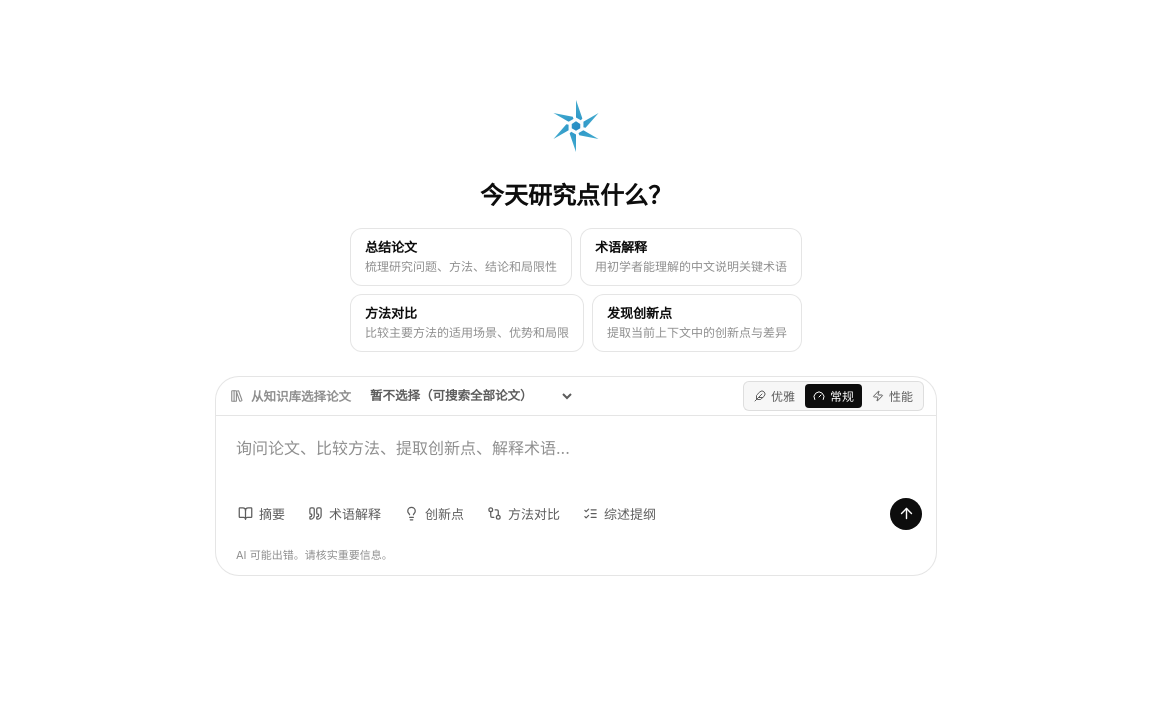
Test: ChatPage › creates a conversation and renders the assistant answer with citations
The image size is (1152, 720).
Type "总结 RAG 的核心思路" into the text box with placeholder "询问论文、比较方法、提取创新点、解释术语..." at (576, 457), box [216, 416, 936, 498]
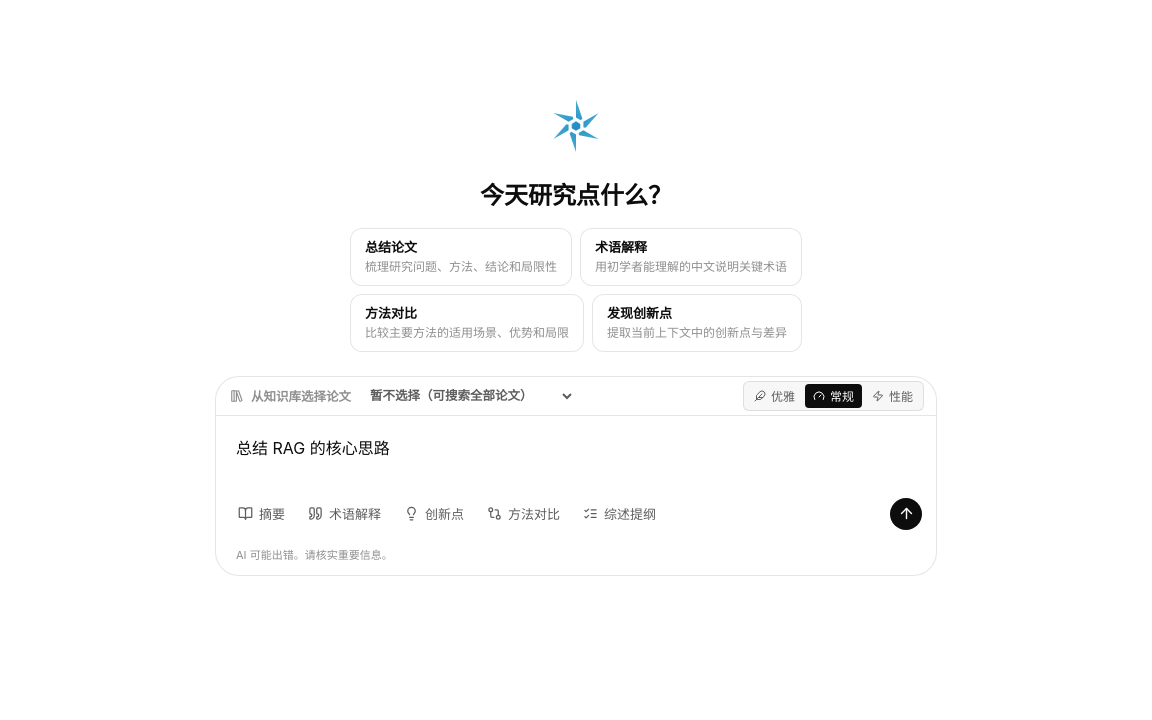
Click the button named "发送" at (906, 514), box [890, 498, 922, 530]
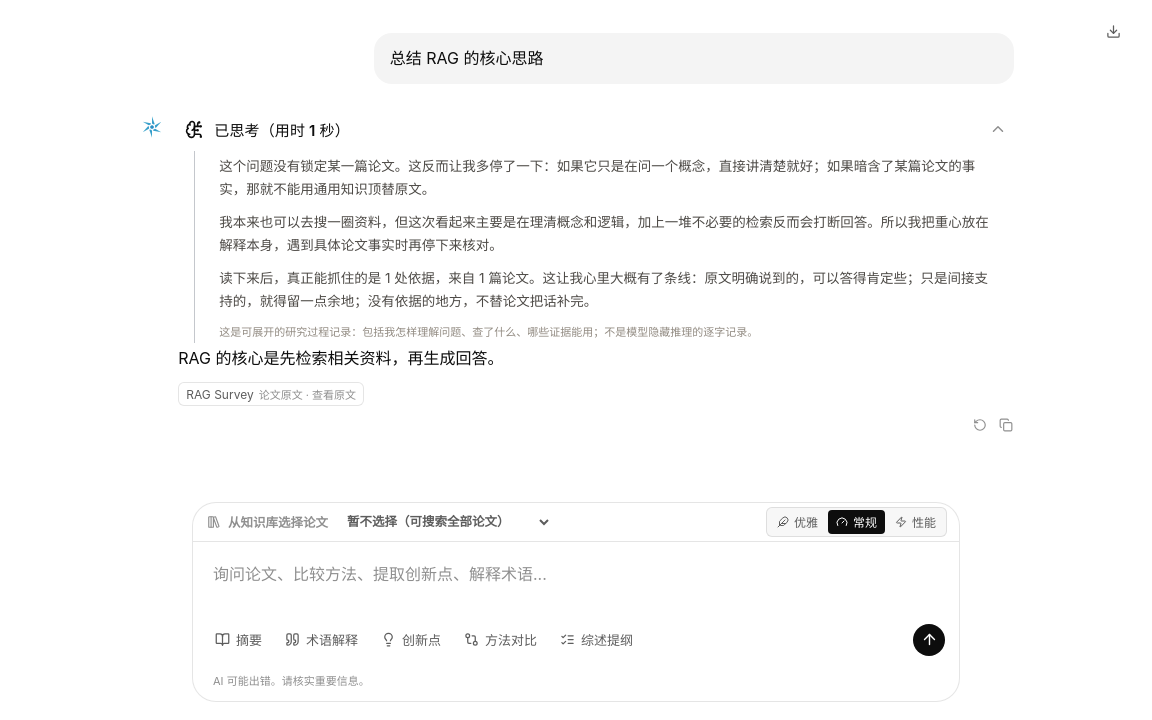
Now the text "总结 RAG 的核心思路" is shown, box [390, 48, 544, 68]
Now the text "RAG 的核心是先检索相关资料，再生成回答。" is shown, box [178, 348, 503, 368]
Now the text "RAG Survey" is shown, box [186, 386, 254, 402]
